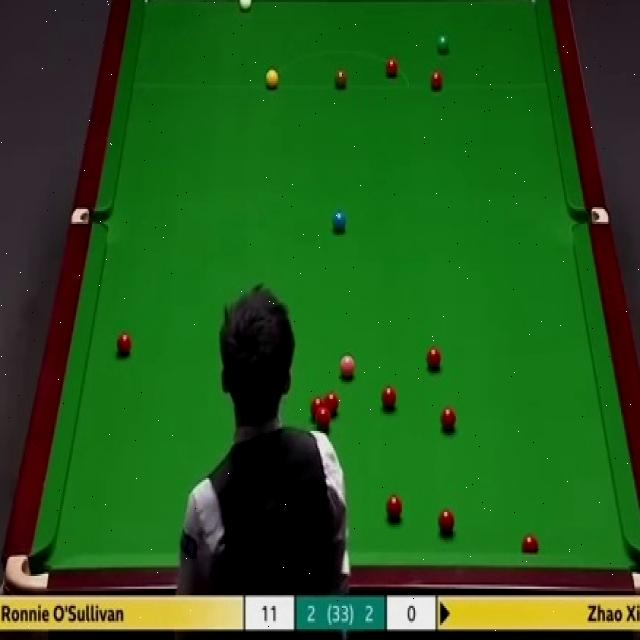blue-ball: (331, 211, 348, 233)
brown-ball: (334, 66, 347, 88)
green-ball: (434, 33, 449, 56)
pink-ball: (339, 355, 356, 382)
red-ball: (116, 332, 132, 362), (426, 345, 443, 372), (381, 383, 398, 410), (440, 407, 455, 435), (385, 494, 402, 518), (439, 508, 453, 536), (310, 397, 325, 423), (522, 532, 538, 554), (325, 392, 339, 417), (316, 411, 332, 432), (384, 56, 399, 78), (430, 72, 446, 89)
white-ball: (237, 0, 250, 9)
yellow-ball: (264, 69, 280, 89)
